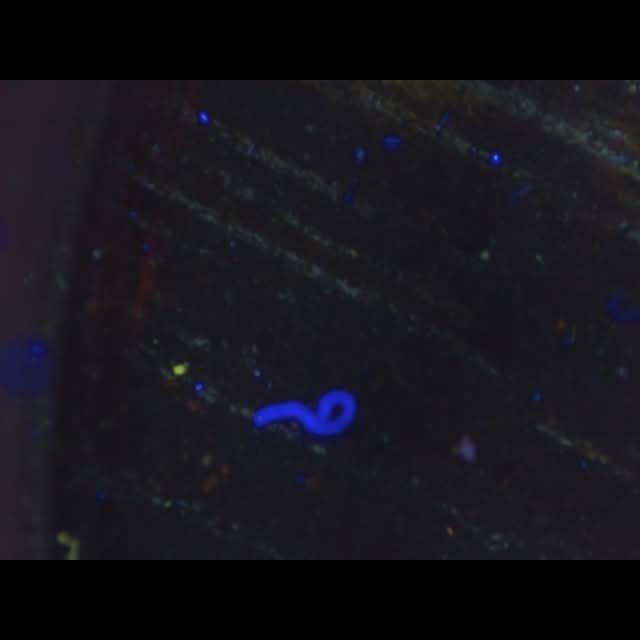microbeads: (172, 360, 188, 376)
